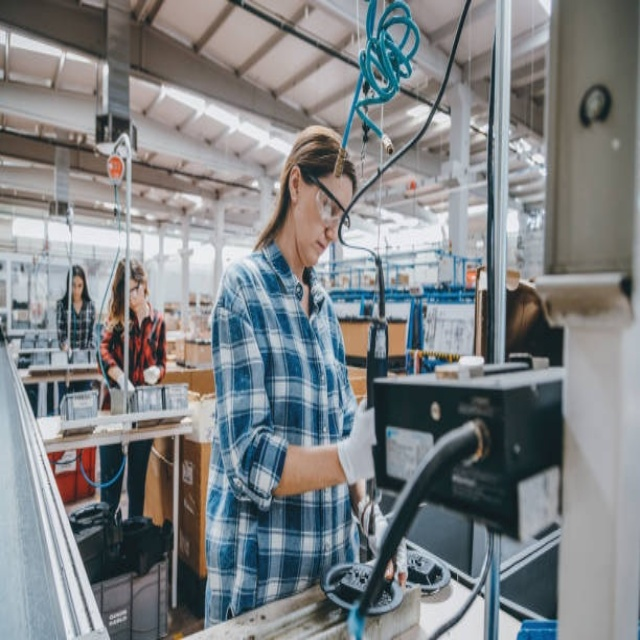Gafas: (302, 173, 355, 235)
Guantes: (355, 489, 414, 585), (328, 389, 376, 483), (141, 358, 164, 386), (117, 372, 135, 394)
Sin_mascara: (306, 237, 332, 264)
